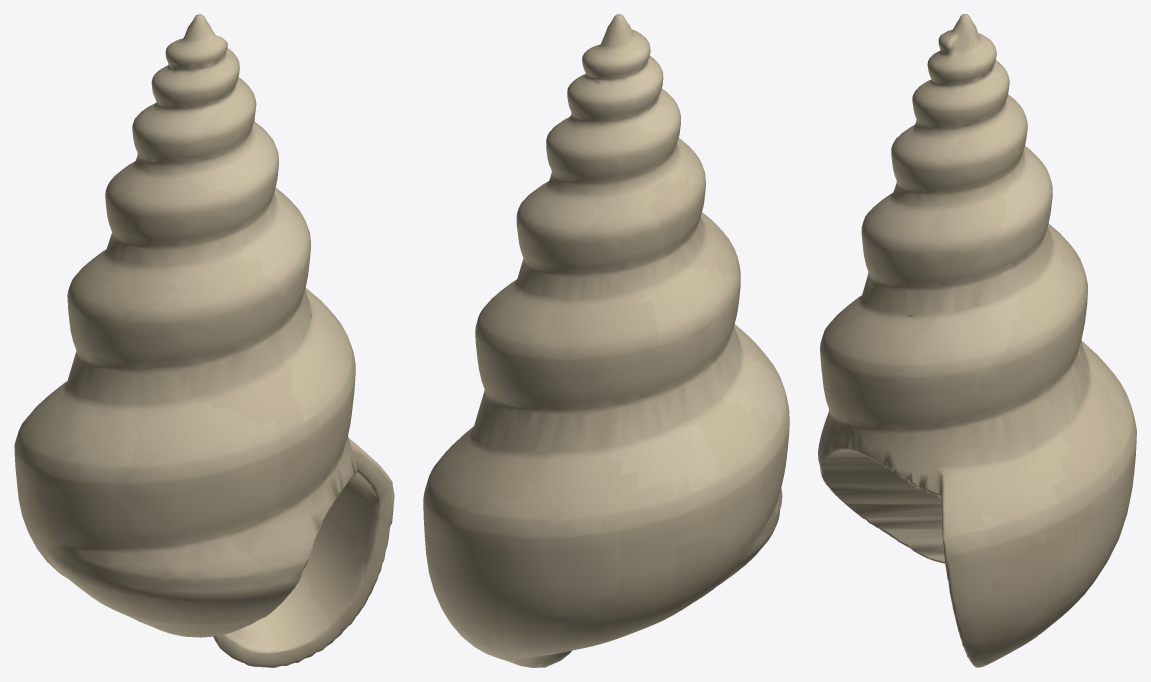
The picture shows the model from 3 angles, left to right: view 1: azimuth 30°, elevation 25°; view 2: azimuth 150°, elevation 25°; view 3: azimuth 270°, elevation 25°; orthographic projection. The views are drawn at different scales.
Parts seen in each view (by area): view 1: Coiled shell and conservative aperture; view 2: Coiled shell and conservative aperture; view 3: Coiled shell and conservative aperture.
Boxes of the visible parts, x1,y1,x2,y2 form: Coiled shell and conservative aperture: [14, 14, 394, 667]; Coiled shell and conservative aperture: [423, 14, 789, 667]; Coiled shell and conservative aperture: [818, 14, 1136, 667].
Size of the model in its own units: 0.011 by 0.021 by 0.01.
